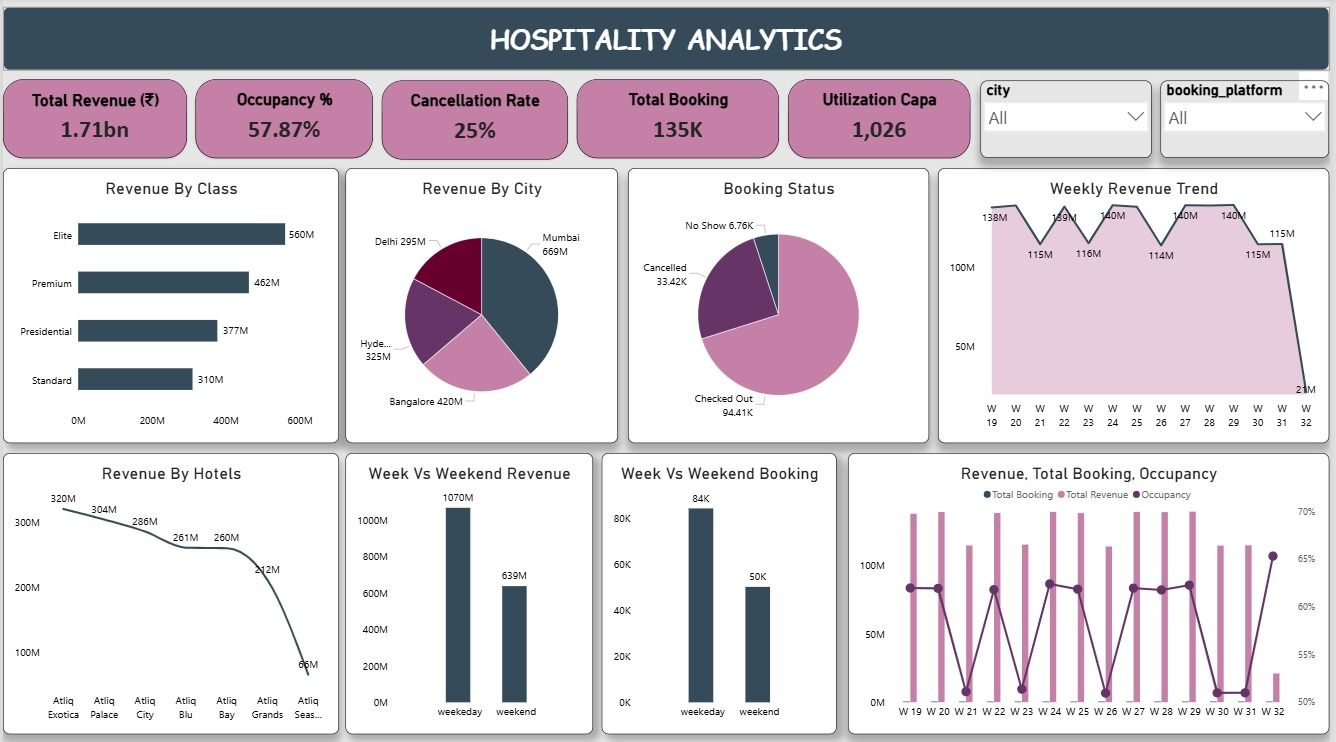

Layout of this report page (visuals, bound fields, positions):
{"tool":"powerbi","page":{"name":"Dash Board","canvas":[1920,1080],"ordinal":0},"visuals":[{"type":"textbox","box":[0,0,1920.1,101.3],"z":0},{"type":"card","title":"Total Revenue (₹)","fields":{"Values":["fact_bookings.Total Revenue"]},"box":[0,117.6,266,114],"z":1000},{"type":"card","title":"Occupancy %","fields":{"Values":["fact_aggregated_bookings.Occupancy"]},"box":[278.7,117.6,257,114],"z":2000},{"type":"card","title":"Cancellation Rate","fields":{"Values":["calender.Total Cancellation Rate"]},"box":[548.3,119.4,269.6,114],"z":3000},{"type":"card","title":"Total Booking","fields":{"Values":["CountNonNull(fact_bookings.booking_id)"]},"box":[830.6,117.6,293.2,114],"z":4000},{"type":"card","title":"Utilization Capa","fields":{"Values":["calender.Utilization Capacity(DURN)R1"]},"box":[1136.5,117.6,264.2,114],"z":5000},{"type":"barChart","title":"Revenue By Class","fields":{"Category":["dim_rooms.room_class"],"Y":["Sum(fact_bookings.revenue_realized)"]},"box":[0,246.1,486.8,398.1],"z":6000},{"type":"pieChart","title":"Revenue By City","fields":{"Category":["dim_hotels.city"],"Y":["Sum(fact_bookings.revenue_realized)"]},"box":[495.8,246.1,394.5,398.1],"z":7000},{"type":"pieChart","title":"Booking Status","fields":{"Category":["fact_bookings.booking_status"],"Y":["CountNonNull(fact_bookings.booking_status)"]},"box":[904.8,246.1,436.1,398.1],"z":8000},{"type":"lineChart","title":"Revenue By Hotels","fields":{"Category":["dim_hotels.property_name"],"Y":["Sum(fact_bookings.revenue_realized)"]},"box":[0,658.7,486.8,407.2],"z":9000},{"type":"columnChart","title":"Week Vs Weekend Revenue","fields":{"Category":["dim_date.day_type"],"Y":["Sum(fact_bookings.revenue_realized)"]},"box":[495.8,658.7,358.3,407.2],"z":10000},{"type":"columnChart","title":"Week Vs Weekend Booking","fields":{"Category":["dim_date.day_type"],"Y":["fact_bookings.Total Booking"]},"box":[866.8,658.7,340.2,407.2],"z":11000},{"type":"lineChart","title":"Weekly Revenue Trend","fields":{"Category":["dim_date.week no"],"Y":["Sum(fact_bookings.revenue_realized)"]},"box":[1353.6,246.1,566.4,398.1],"z":12000},{"type":"lineClusteredColumnComboChart","title":"Revenue, Total Booking, Occupancy","fields":{"Category":["dim_date.week no"],"Y":["fact_bookings.Total Booking","fact_bookings.Total Revenue"],"Y2":["fact_aggregated_bookings.Occupancy %"]},"box":[1223.3,658.7,696.7,407.2],"z":13000},{"type":"slicer","fields":{"Values":["dim_hotels.city"]},"box":[1415.2,119.4,247.9,112.2],"z":14000},{"type":"slicer","title":"Booking_Platform","fields":{"Values":["fact_bookings.booking_platform"]},"box":[1675.7,119.4,244.3,112.2],"z":15000}]}

Visuals, with their boxes in screenshot pixels (x1, y1, x2, y2), scaled from the page's 1920x1080 canvas onto the 1336x742 screenshot:
textbox: (0,0,1335,70)
"Total Revenue (₹)" card: (0,81,185,159)
"Occupancy %" card: (194,81,373,159)
"Cancellation Rate" card: (382,82,569,160)
"Total Booking" card: (578,81,782,159)
"Utilization Capa" card: (791,81,975,159)
"Revenue By Class" barChart: (0,169,339,443)
"Revenue By City" pieChart: (345,169,620,443)
"Booking Status" pieChart: (630,169,933,443)
"Revenue By Hotels" lineChart: (0,453,339,732)
"Week Vs Weekend Revenue" columnChart: (345,453,594,732)
"Week Vs Weekend Booking" columnChart: (603,453,840,732)
"Weekly Revenue Trend" lineChart: (942,169,1335,443)
"Revenue, Total Booking, Occupancy" lineClusteredColumnComboChart: (851,453,1335,732)
slicer - dim_hotels.city: (985,82,1157,159)
"Booking_Platform" slicer: (1166,82,1335,159)
